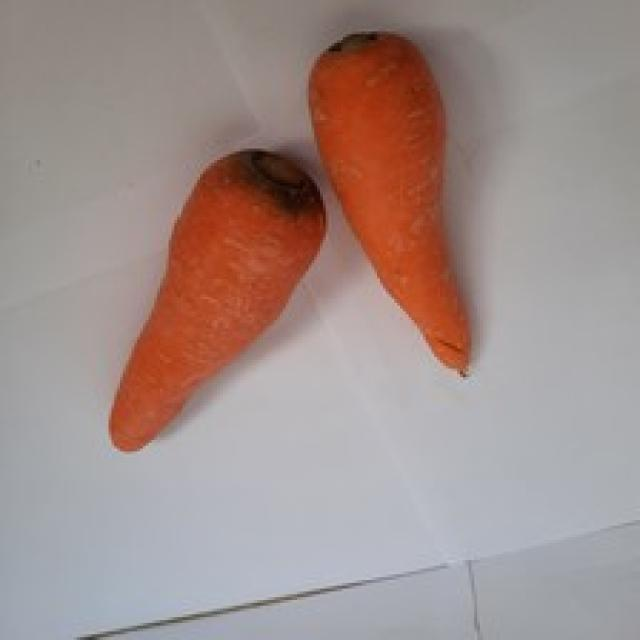carrot: (106, 148, 329, 458), (305, 38, 494, 360), (334, 366, 334, 370)
